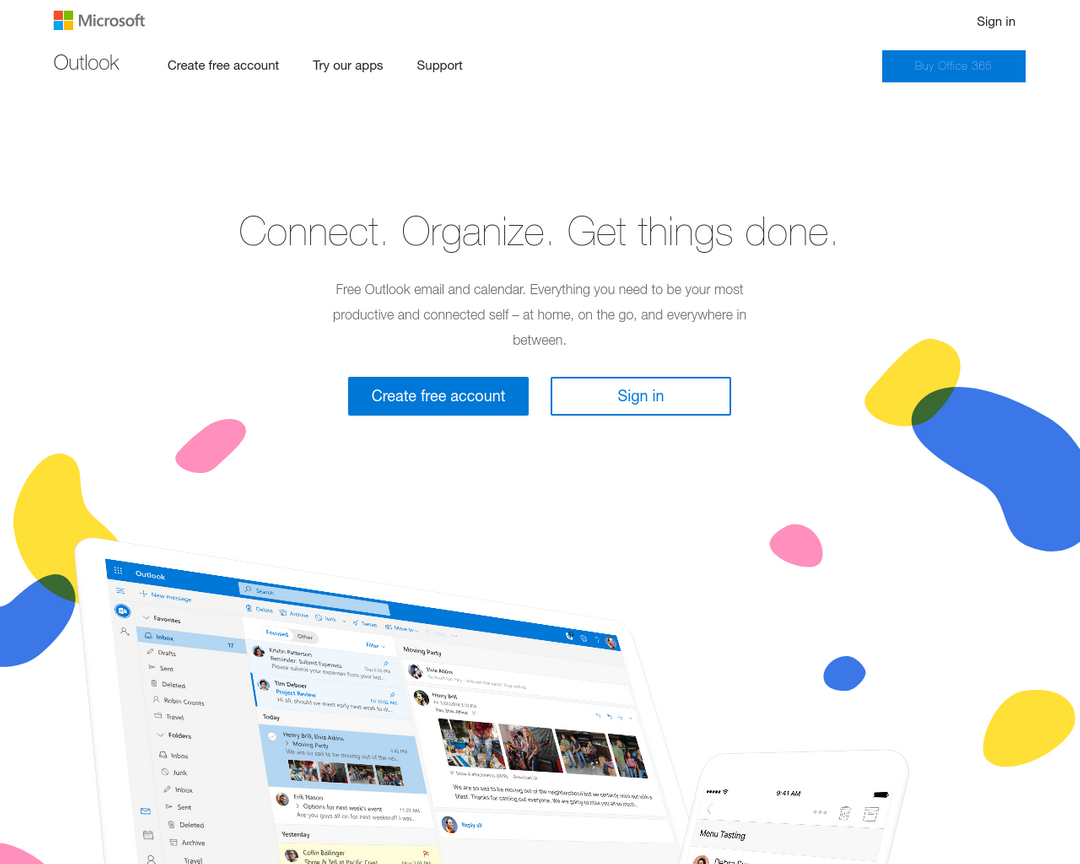Microsoft: (47, 4, 148, 39)
